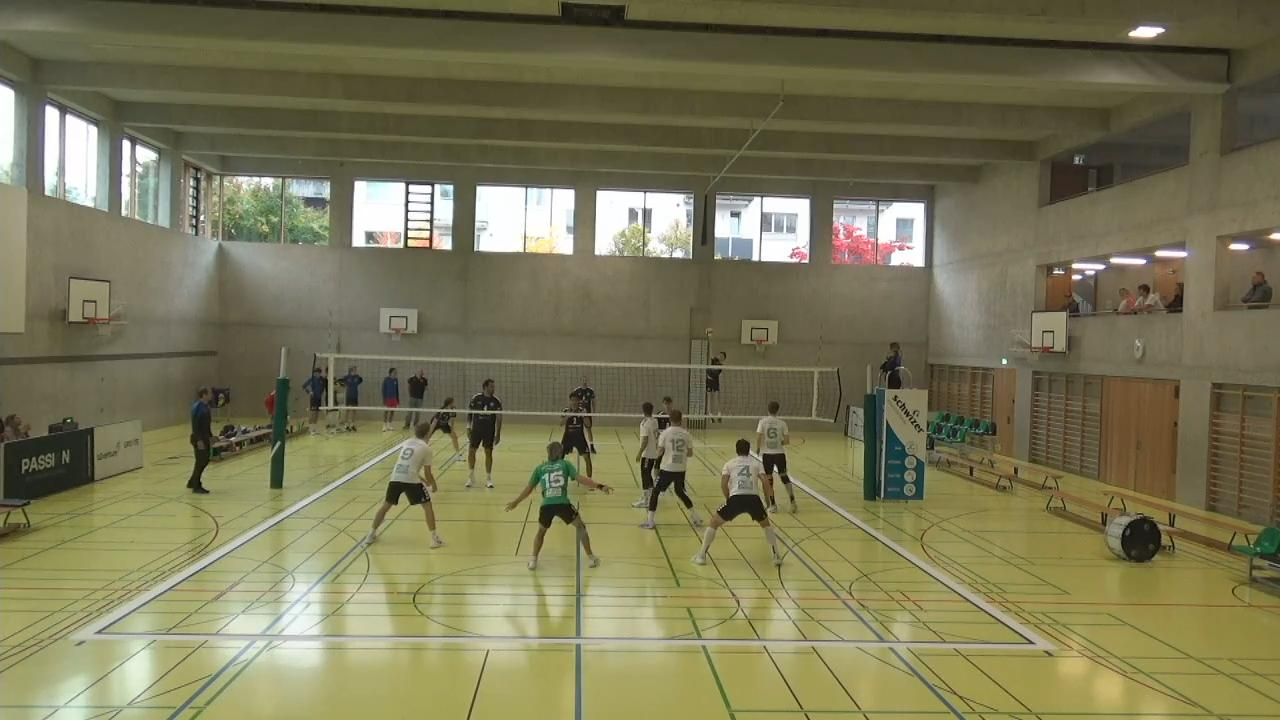Player: (508, 438, 609, 571), (698, 437, 781, 567), (367, 421, 444, 548), (646, 410, 700, 528), (755, 400, 794, 516), (466, 379, 503, 489), (559, 393, 601, 485), (631, 394, 665, 496), (426, 393, 465, 461), (567, 374, 597, 452)
Serve: (702, 328, 728, 427)
ball: (703, 325, 714, 337)
